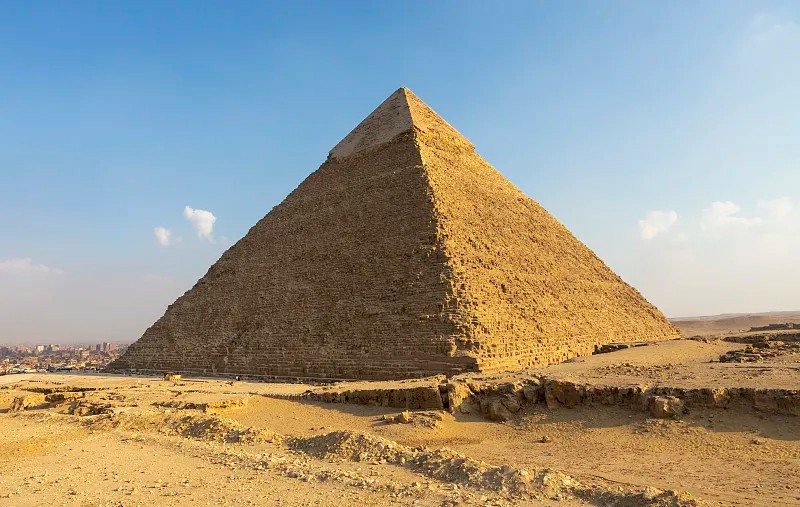Pyramid: (108, 85, 685, 385)
